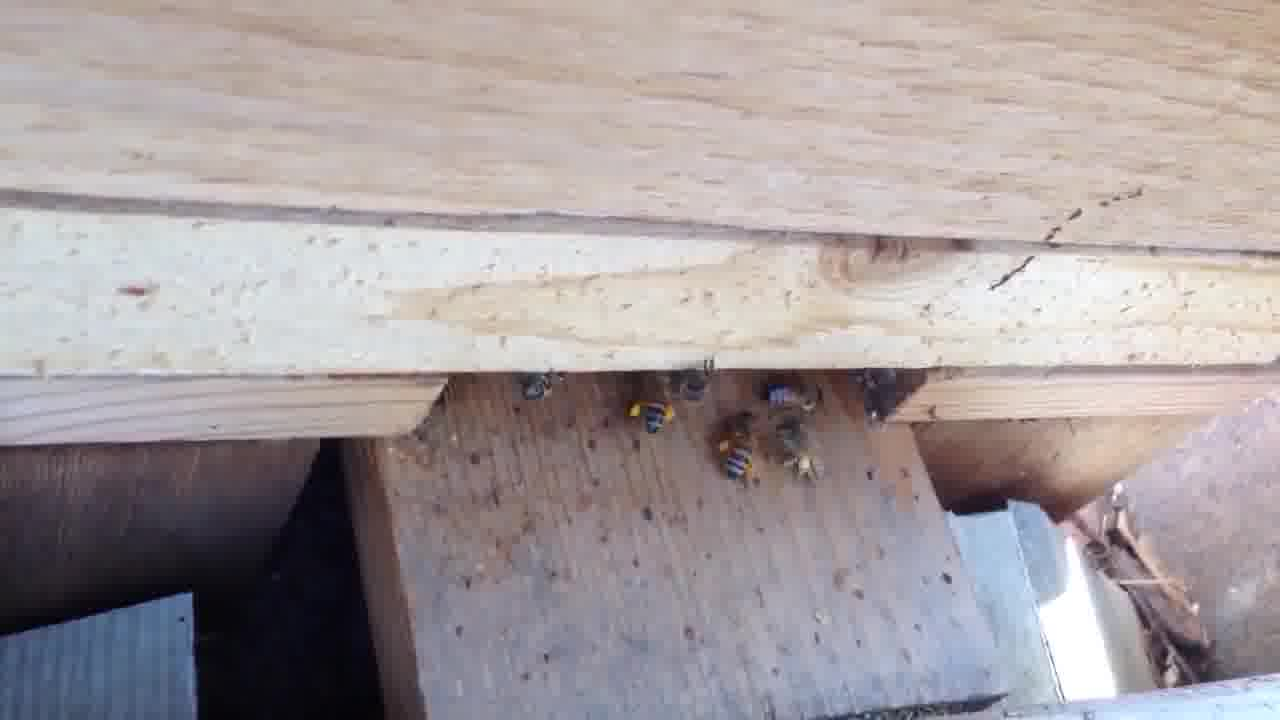pollen: (708, 405, 767, 496), (775, 412, 829, 489), (626, 373, 681, 437)
